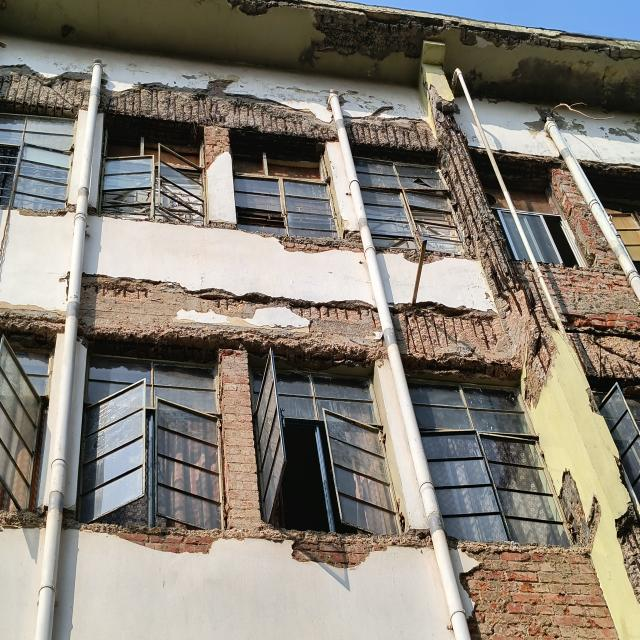Incomplete Plaster Work: (454, 55, 640, 112), (525, 106, 592, 141), (595, 114, 640, 141)
Spalling: (345, 84, 569, 414), (230, 2, 640, 71), (79, 277, 384, 357), (101, 70, 338, 140), (386, 302, 516, 364), (472, 148, 572, 214), (557, 307, 640, 383), (0, 62, 90, 116), (610, 495, 640, 603), (580, 162, 640, 210), (0, 302, 66, 333), (0, 503, 51, 533)
exposed brickwork: (94, 348, 433, 571), (453, 475, 619, 640)
